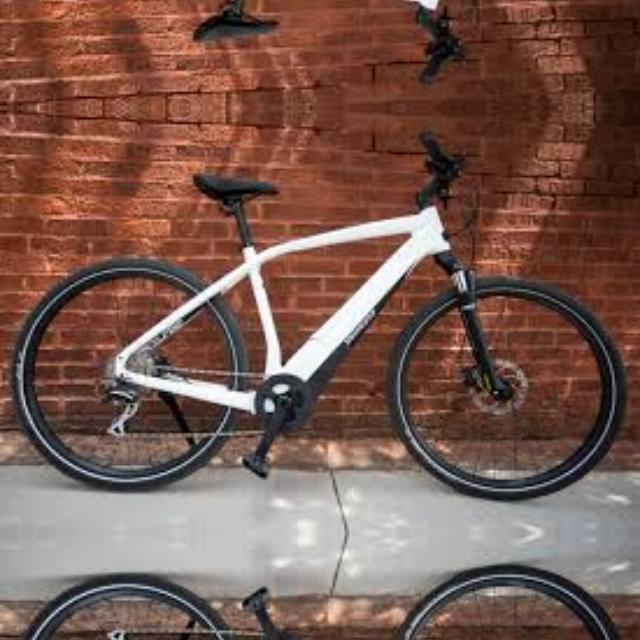obstacle: (11, 123, 636, 499), (11, 0, 636, 91), (11, 567, 636, 640)
